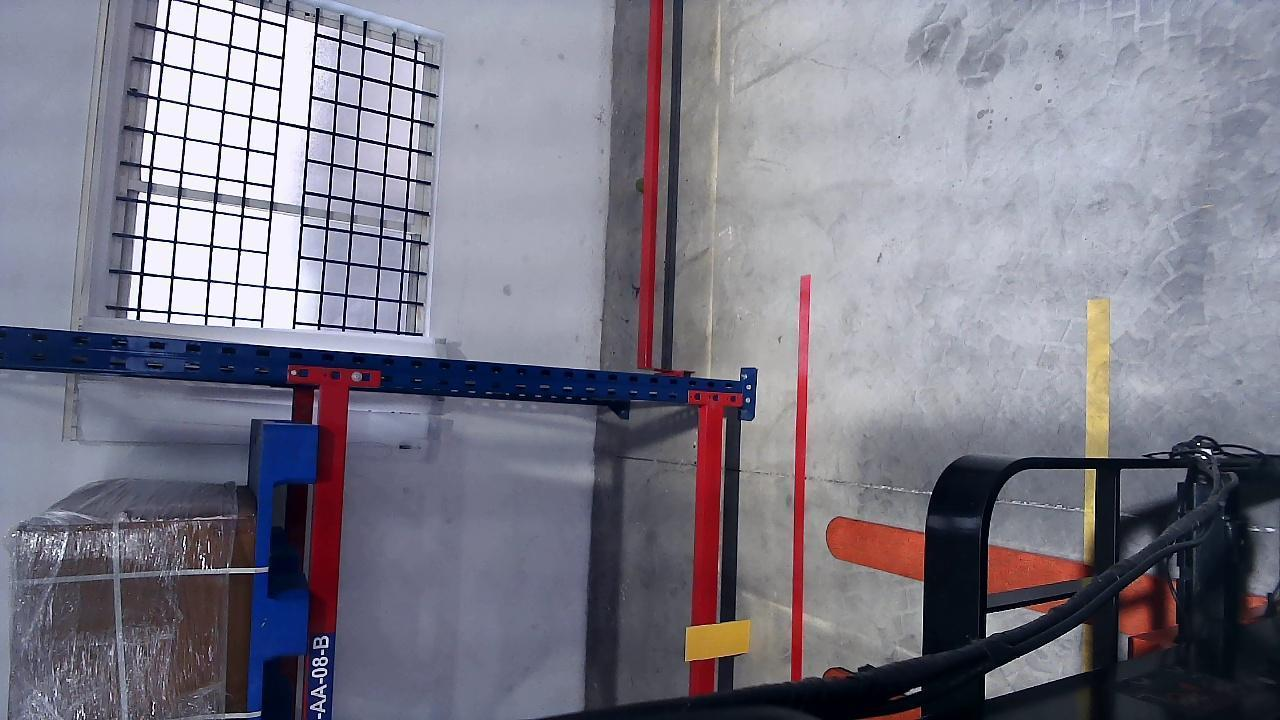red_line: (796, 279, 810, 678)
yellow_line: (1084, 298, 1111, 457)
